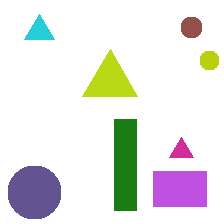circle: (8, 166, 60, 218), (181, 17, 201, 37), (200, 51, 218, 69)
rectangle: (114, 119, 136, 210), (153, 171, 206, 206)
triangle: (82, 49, 137, 96), (24, 14, 54, 39), (169, 137, 193, 157)
